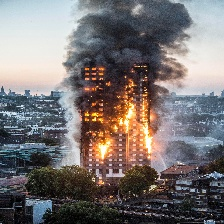fire: (84, 66, 154, 161)
smoke: (62, 1, 190, 131)
